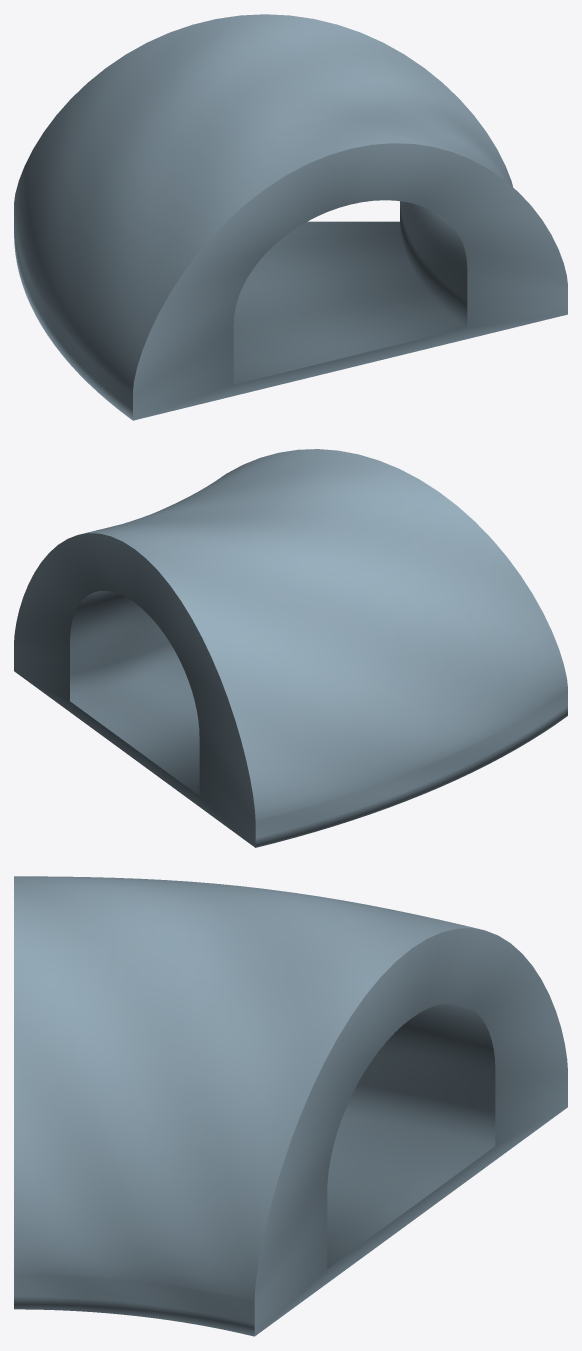
Rendered from curve_right_30_terrain.glb.
The picture shows the model from 3 angles, top to bottom: view 1: azimuth 30°, elevation 25°; view 2: azimuth 150°, elevation 25°; view 3: azimuth 270°, elevation 25°; orthographic projection. The views are drawn at different scales.
Visible parts, largest first — view 1: TerrainRoof.008; view 2: TerrainRoof.008; view 3: TerrainRoof.008.
Part boxes in pixels (x1,y1,x2,y2): TerrainRoof.008: [14, 14, 567, 420]; TerrainRoof.008: [14, 449, 567, 847]; TerrainRoof.008: [14, 876, 567, 1336].
Bounding box in the file's own units: 31.32 × 13.65 × 25.1.
